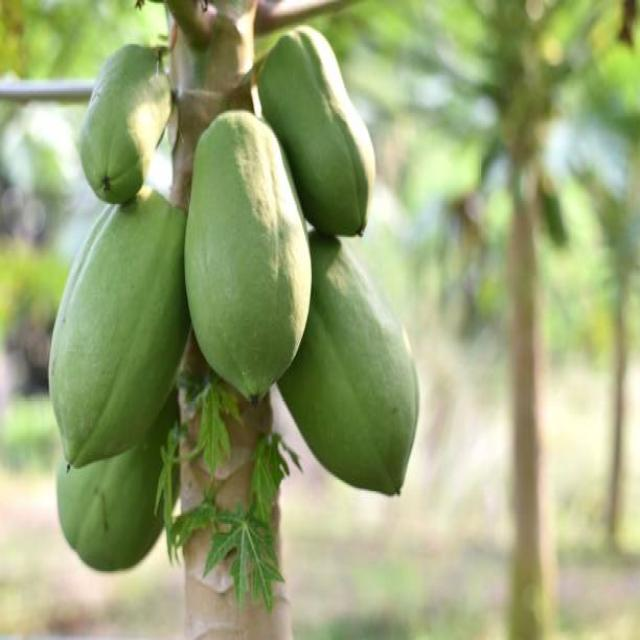Pepaya unrippen: (291, 244, 420, 508), (181, 120, 309, 386), (50, 198, 171, 461), (262, 36, 376, 236), (79, 34, 172, 211), (56, 466, 175, 573)
